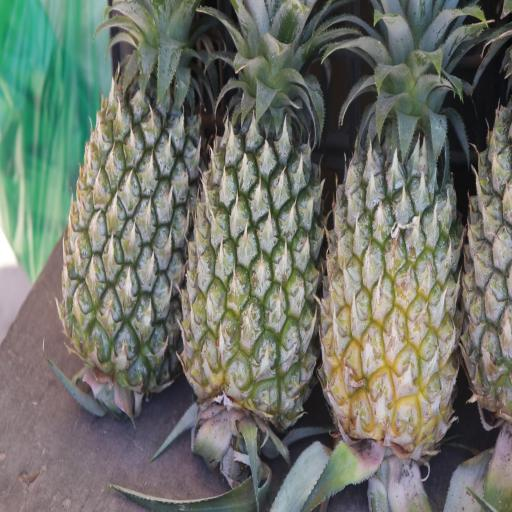------------------------------: (315, 0, 464, 461)
